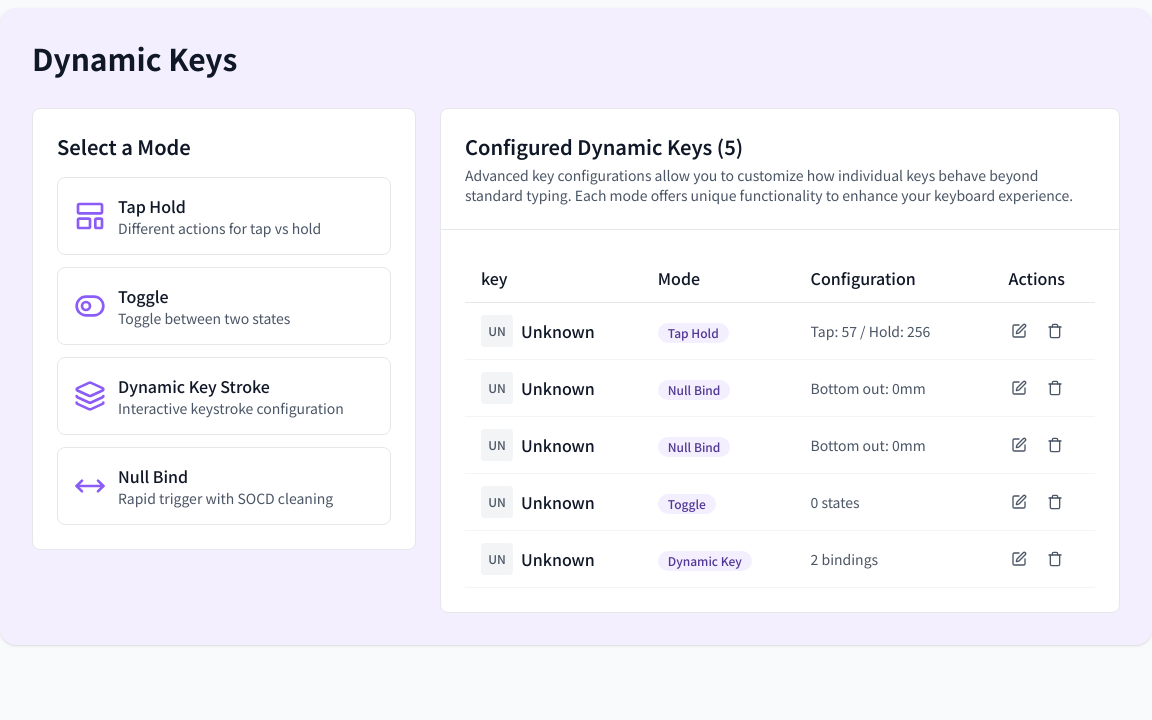
Test case: Dynamic Keys dashboard › edits a null bind with both of its keys selected
The image size is (1152, 720).
Note: The pair's second row edits the same pair.
Click the 3rd button named "Edit configuration" at (1019, 445), box x1=1005 y1=431 x2=1033 y2=459
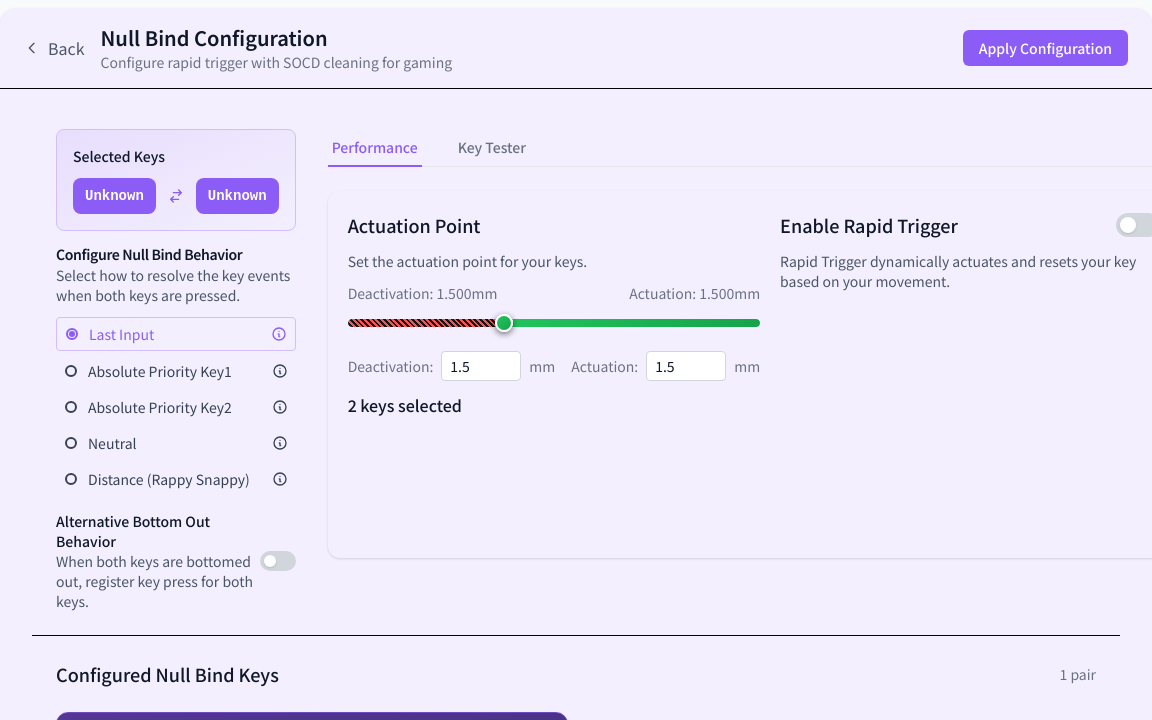
Expected: the heading "Null Bind Configuration" is shown, x1=100 y1=23 x2=328 y2=52
